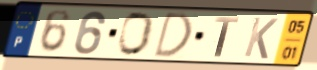6: (72, 9, 108, 56), (38, 9, 72, 55)
D: (151, 10, 194, 60)
K: (241, 15, 280, 61)
O: (116, 10, 157, 58)
T: (213, 15, 241, 59)
